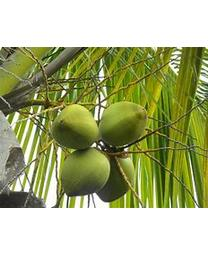coconut: (60, 147, 111, 197), (99, 101, 148, 148), (95, 147, 135, 203), (51, 103, 98, 150)
